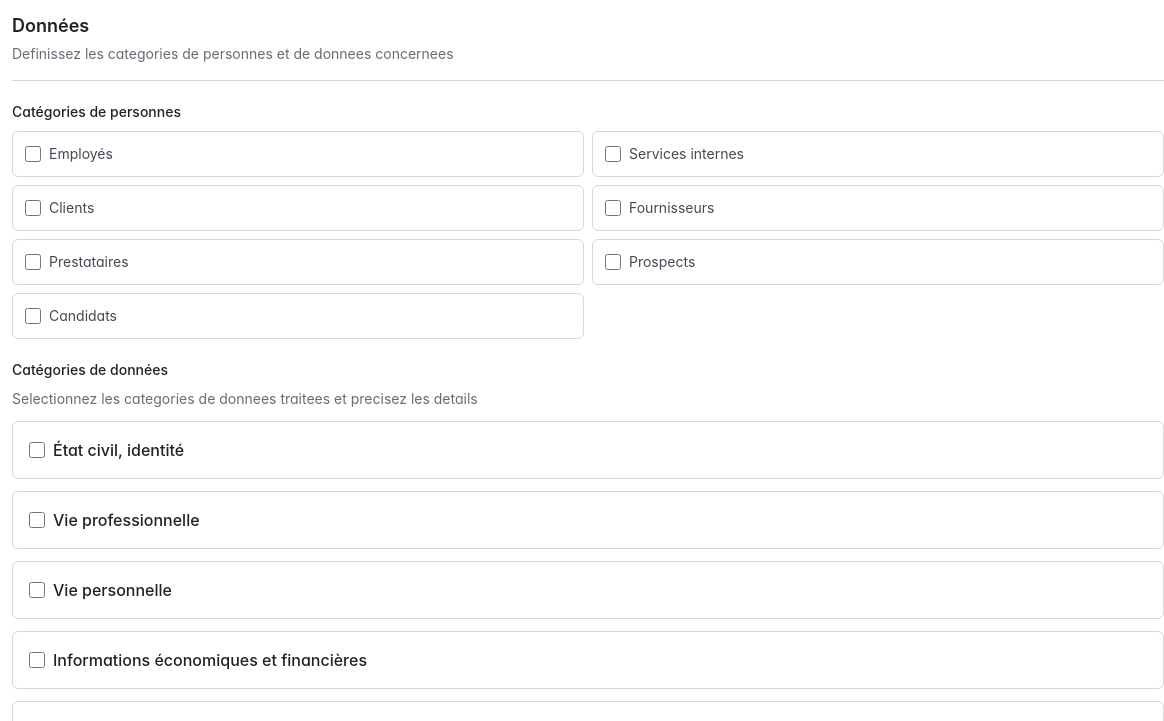
Test case: Step2Data › reveals the description + retention fields only after a data-category is selected
Expected: the field with placeholder "Precisez les donnees collectees" is not shown
Expected: the field with placeholder "Ex: 5 ans" is not shown
Click the checkbox labelled "État civil, identité" at [37, 450], box [29, 442, 45, 458]
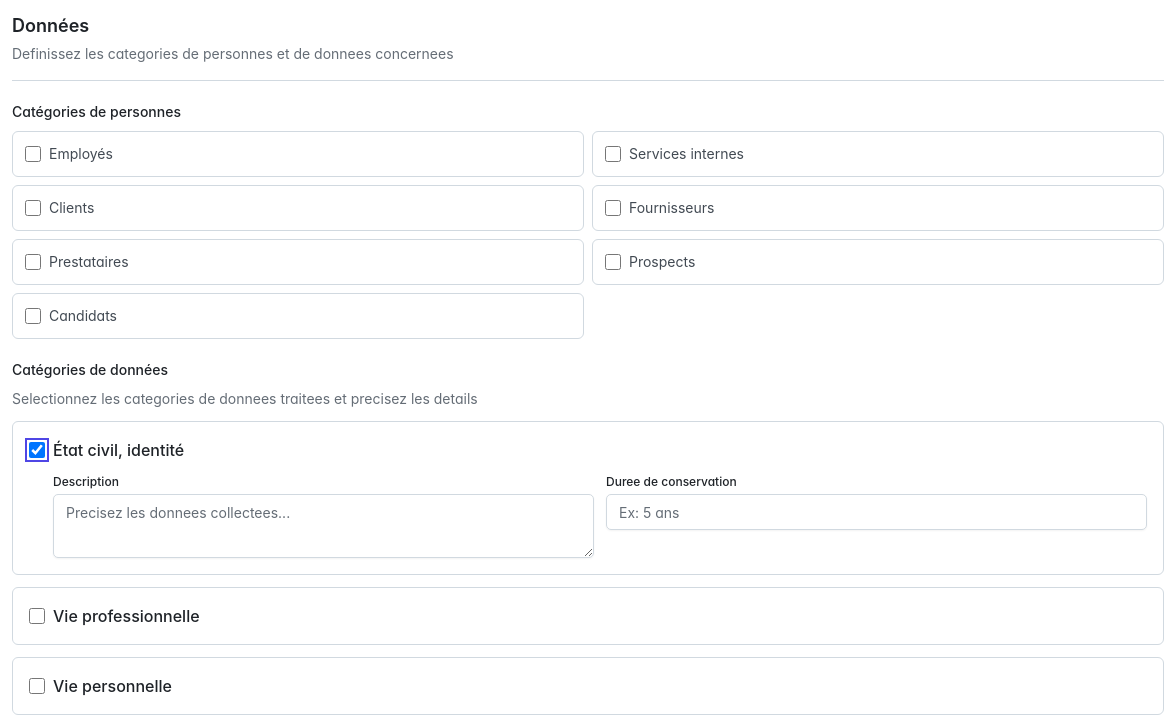
Expected: the text box with placeholder "Precisez les donnees collectees..." is shown, [53, 494, 594, 558]
Expected: the field with placeholder "Ex: 5 ans" is shown, [606, 494, 1147, 530]
